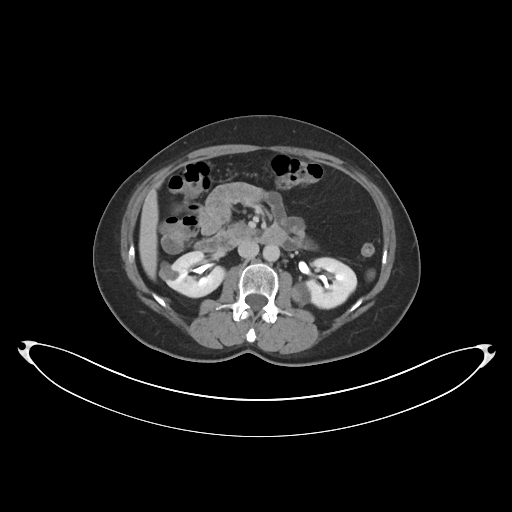Lesion: (156, 257, 181, 285)
